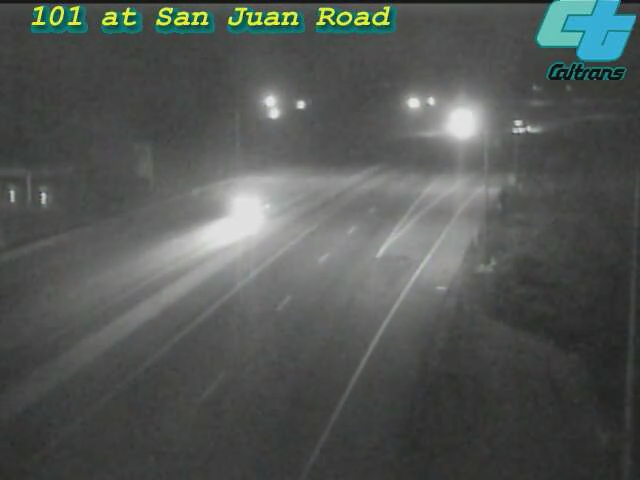vehicle: (202, 165, 282, 245), (435, 98, 485, 148), (498, 102, 548, 152)
